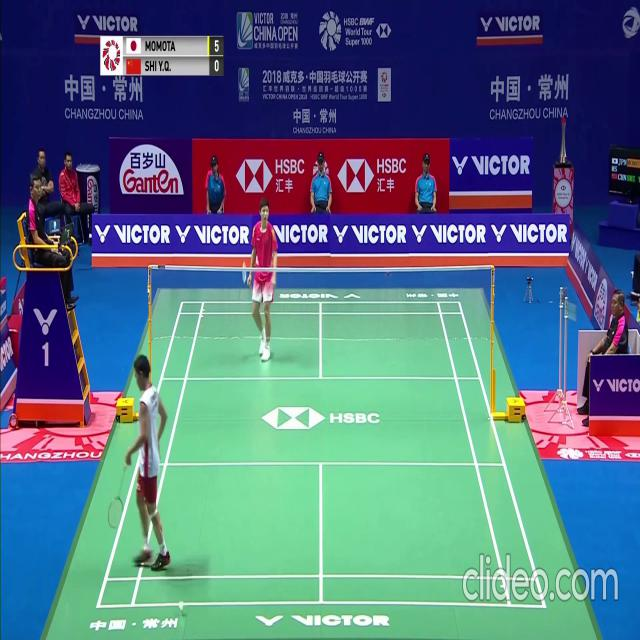Shuttlecock: (179, 603, 184, 611)
